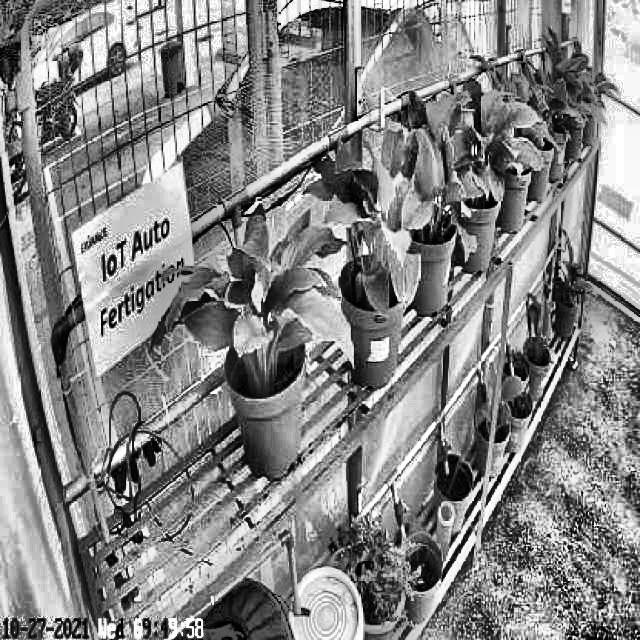plants: (151, 202, 357, 384), (306, 152, 423, 314), (374, 90, 476, 272), (431, 90, 547, 212)
